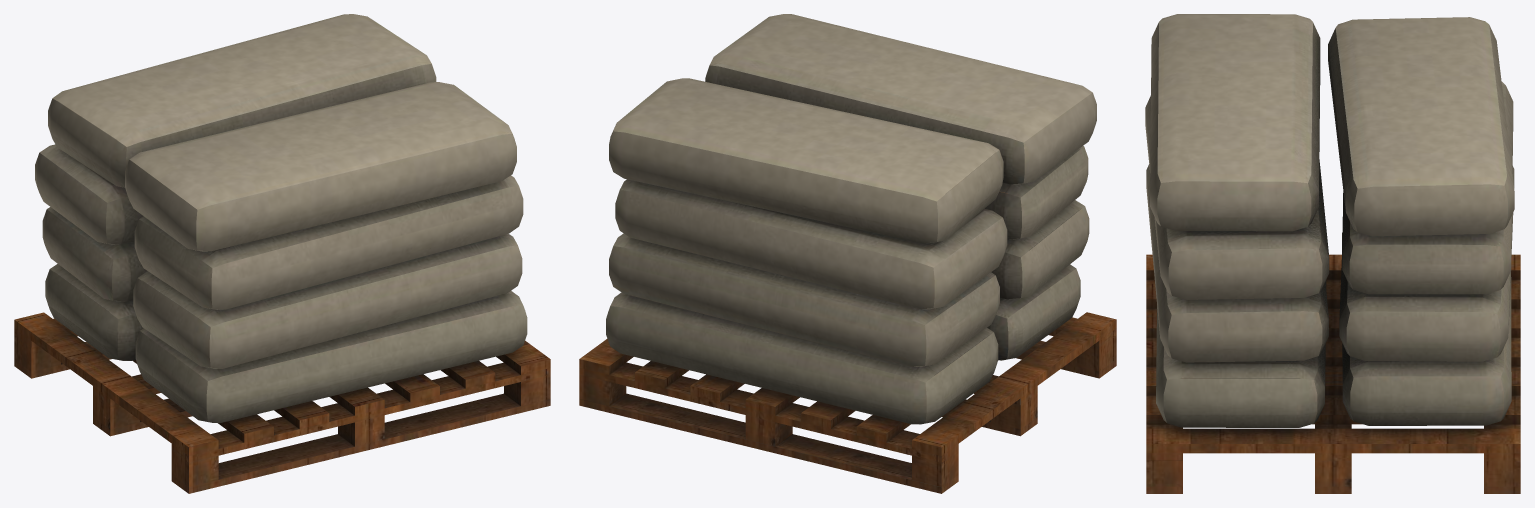
Rendered from pallet_sacks.glb.
3 renders of one model, left to right at view 1: azimuth 30°, elevation 25°; view 2: azimuth 150°, elevation 25°; view 3: azimuth 270°, elevation 25°, orthographic. The views are drawn at different scales.
Parts seen in each view (by area): view 1: pallet_sacks; view 2: pallet_sacks; view 3: pallet_sacks.
Boxes of the visible parts, x1,y1,x2,y2 form: pallet_sacks: [14, 14, 550, 493]; pallet_sacks: [579, 14, 1116, 493]; pallet_sacks: [1145, 14, 1520, 493].
Bounding box in the file's own units: 1.22 × 0.915 × 1.02.
Materials: 1 (1 with a texture image).
